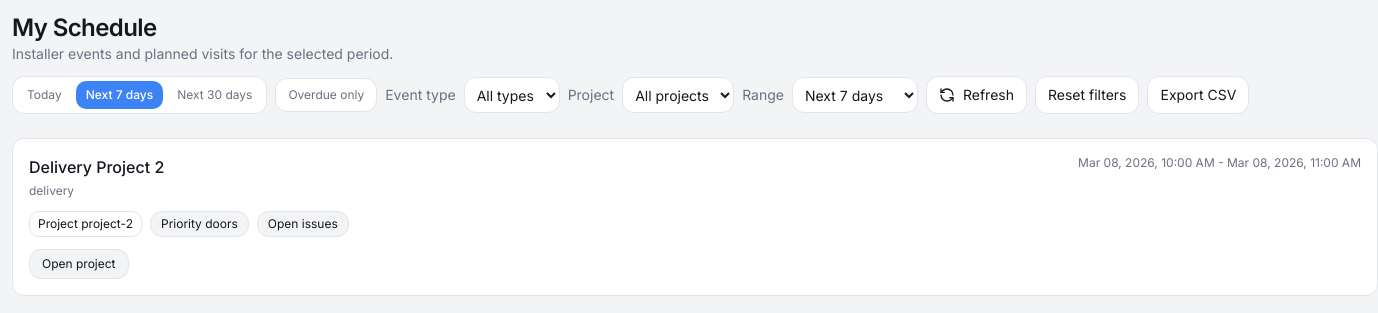
Scenario: InstallerSchedulePage › syncs current filters to URL query params
This screenshot has width=1378, height=313.
Expected: the text "Delivery Project 2" is shown, top-left (29, 155), bottom-right (164, 179)
Select "delivery" in the dropdown labelled "Event type" at (512, 95), box top-left (464, 77), bottom-right (560, 113)
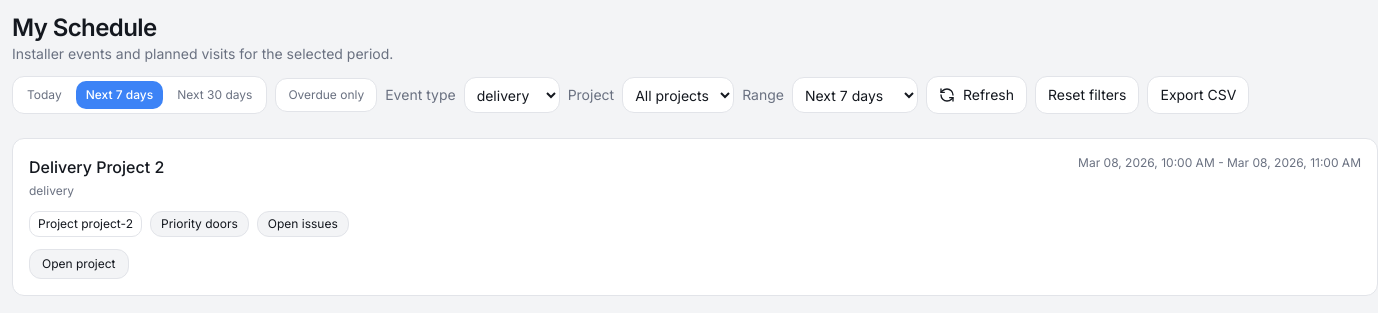
Click the button "Today" at (44, 95), box top-left (17, 81), bottom-right (72, 109)
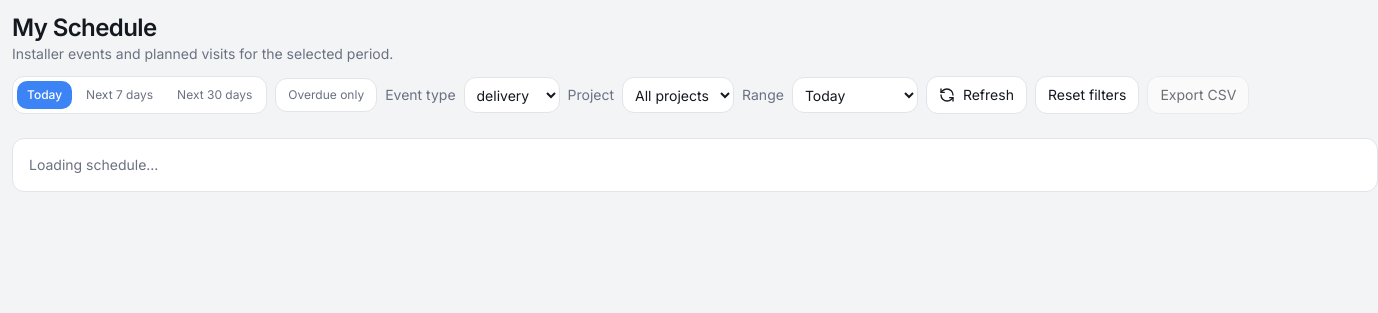
Click the button "Overdue only" at (326, 95), box top-left (275, 78), bottom-right (377, 112)
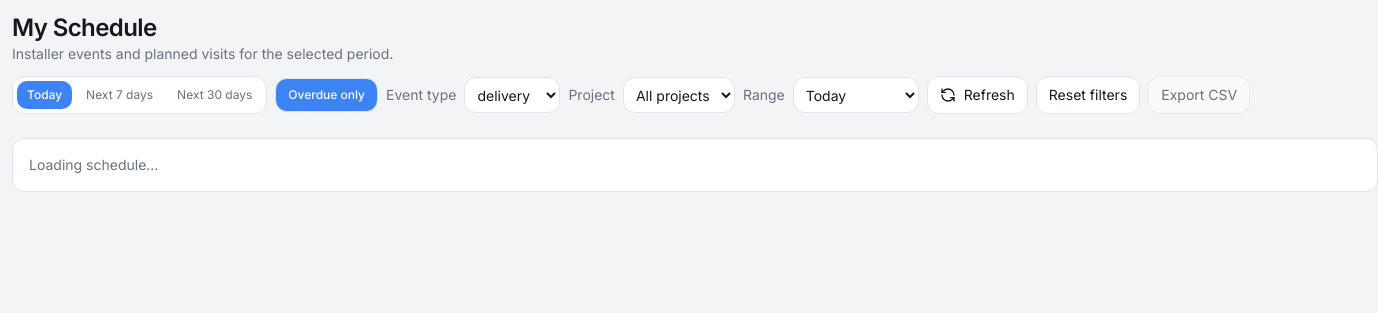
Select "No project" in the dropdown labelled "Project" at (679, 95), box top-left (623, 77), bottom-right (735, 113)
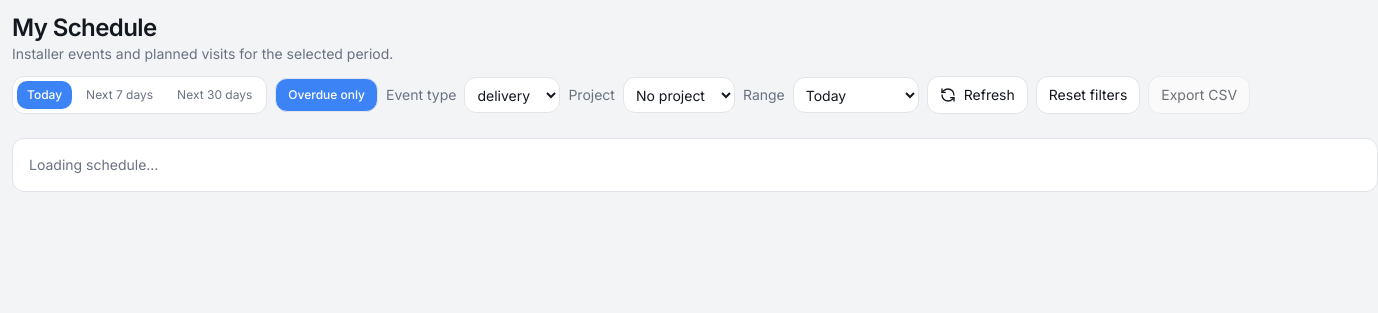
Click the button "Reset filters" at (1088, 95), box top-left (1036, 76), bottom-right (1140, 114)
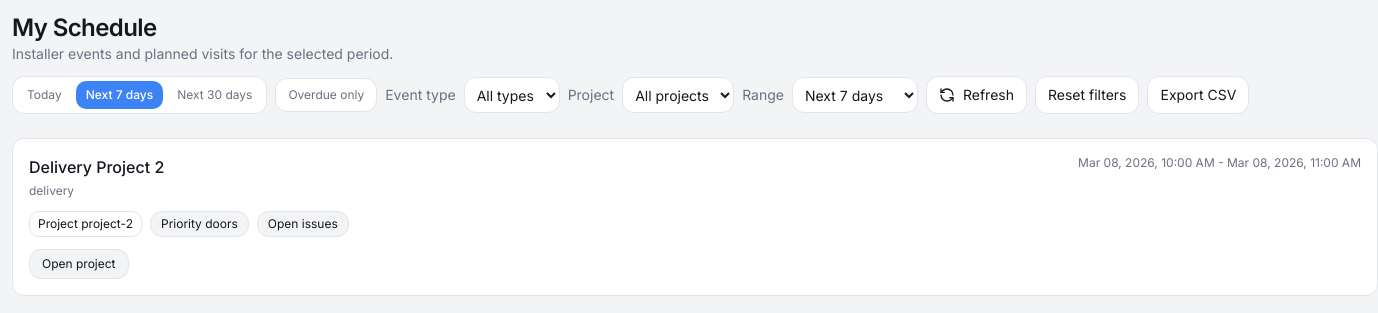
Now the dropdown labelled "Range" shows "Next 7 days", box top-left (792, 77), bottom-right (918, 113)
